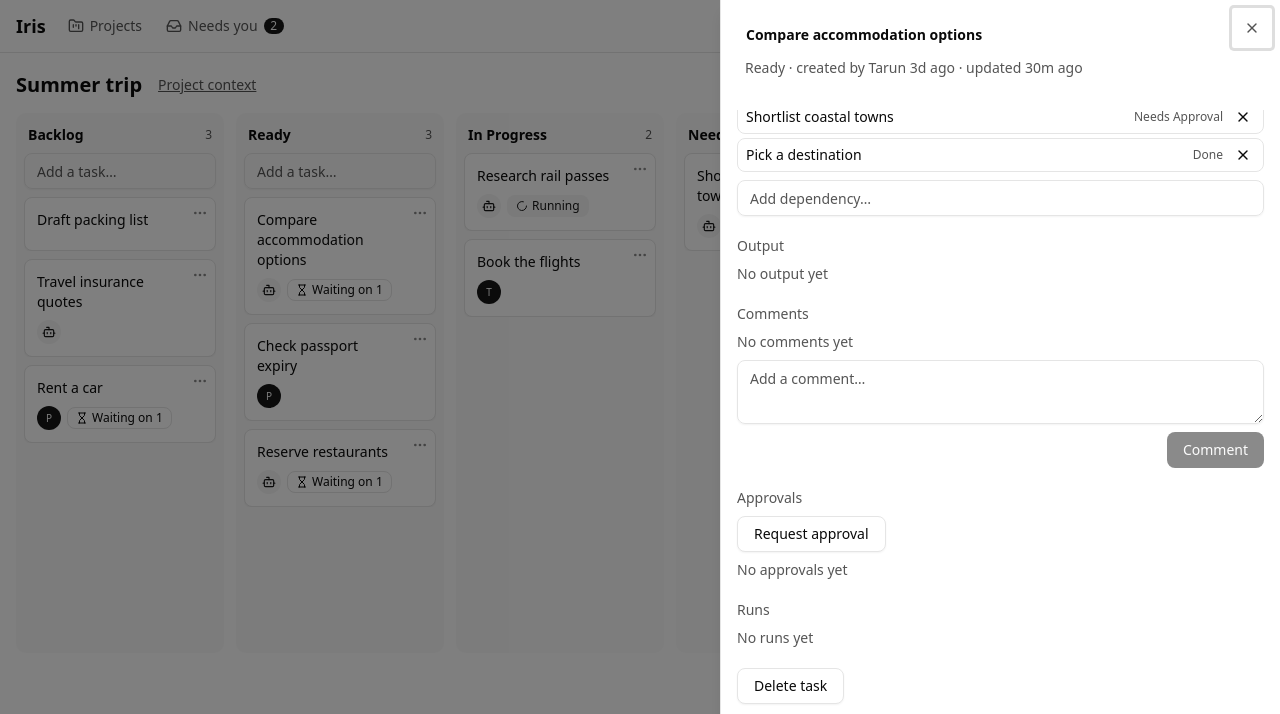
requesting approval › while the request is on its way the pending approval is already shown
The width and height of the screenshot is (1280, 714).
(page scrolled)
Click the button "Request approval": (811, 534) [737,516,886,552]
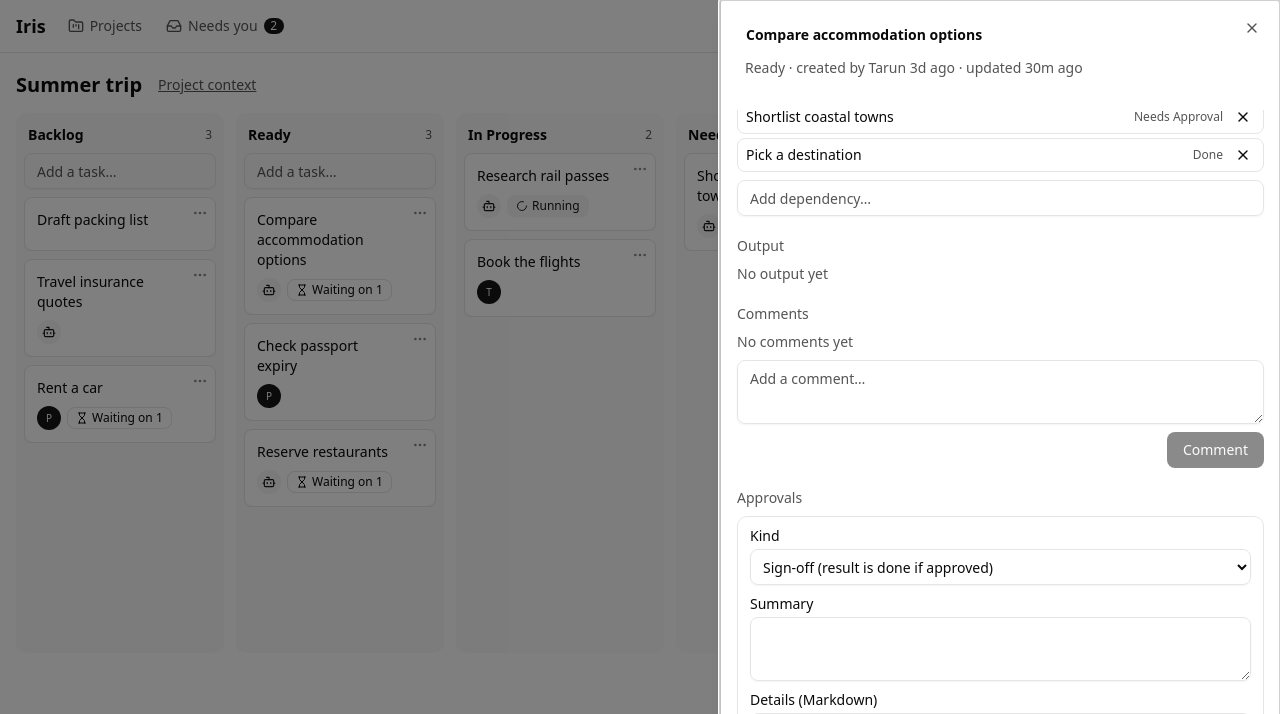
In the text box labelled "Summary": (1000, 649) [750,617,1251,681], type "Guest list ready"
(page scrolled)
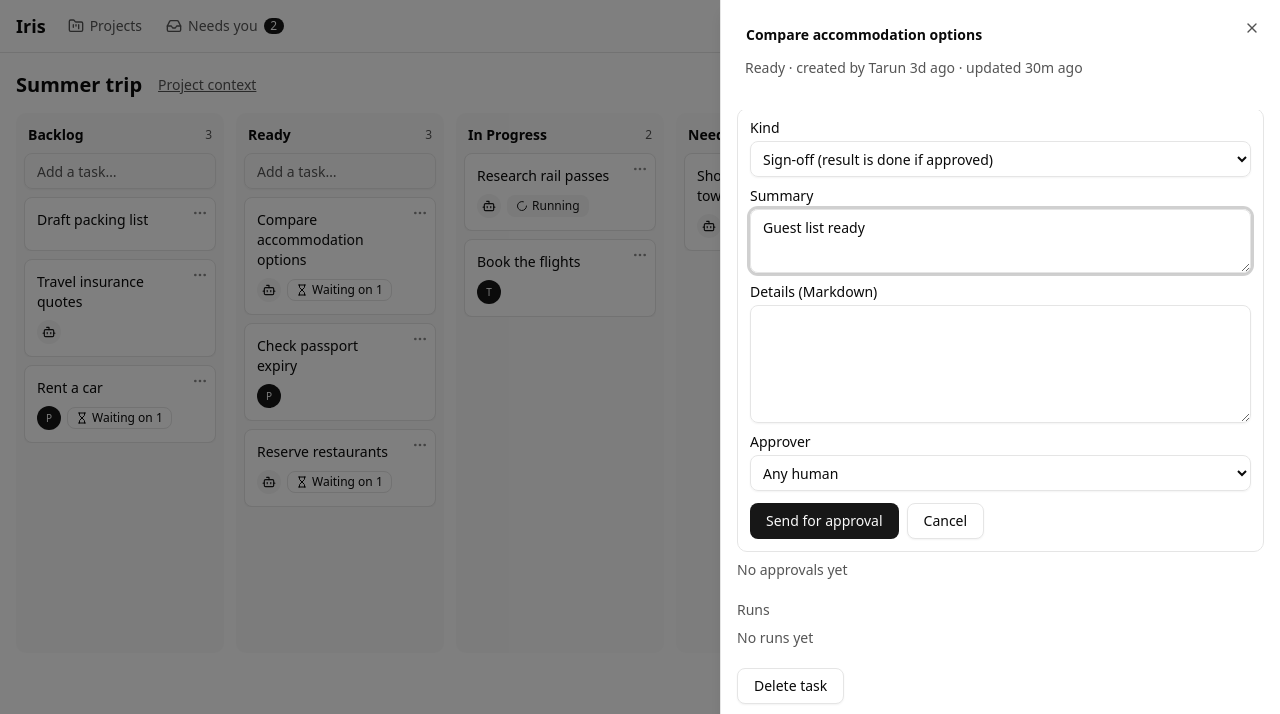
Click the button "Send for approval": (824, 521) [750,503,898,539]
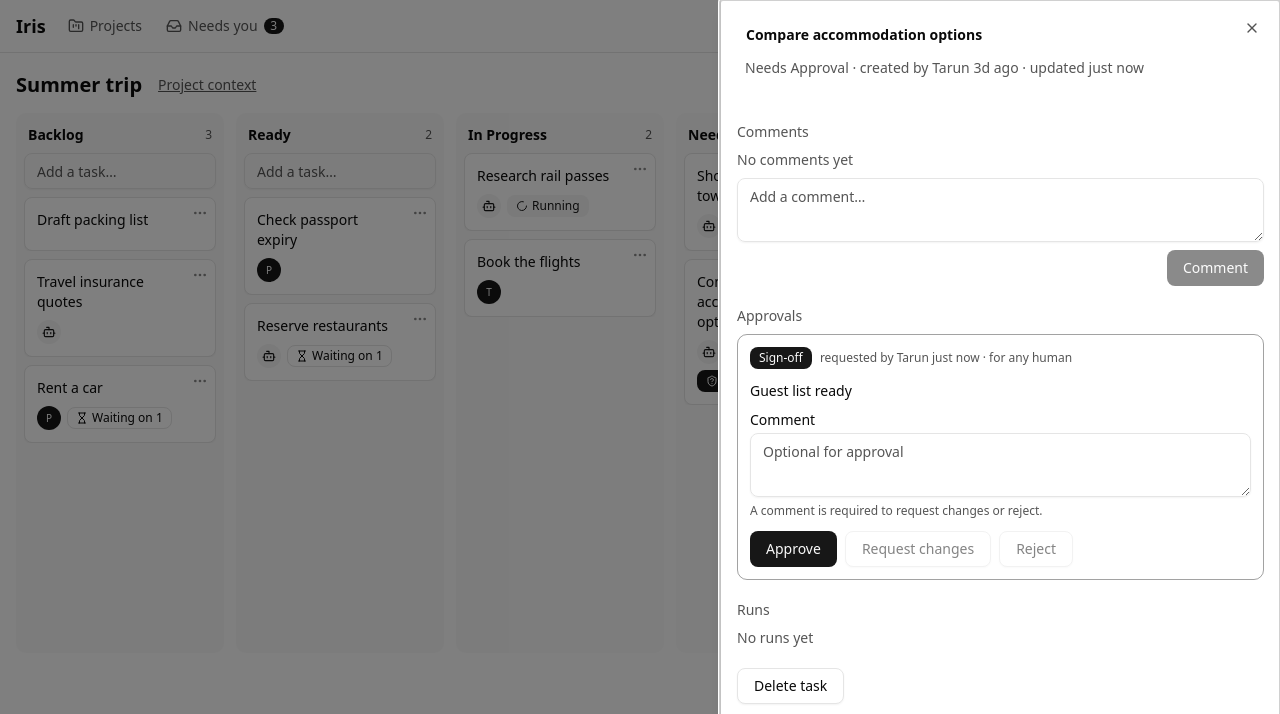
Check: the button "Approve" is shown, box [750,531,837,567]
Check: the text "Guest list ready" is shown, box [750,381,852,400]
Check: the label labelled "Summary" is gone
